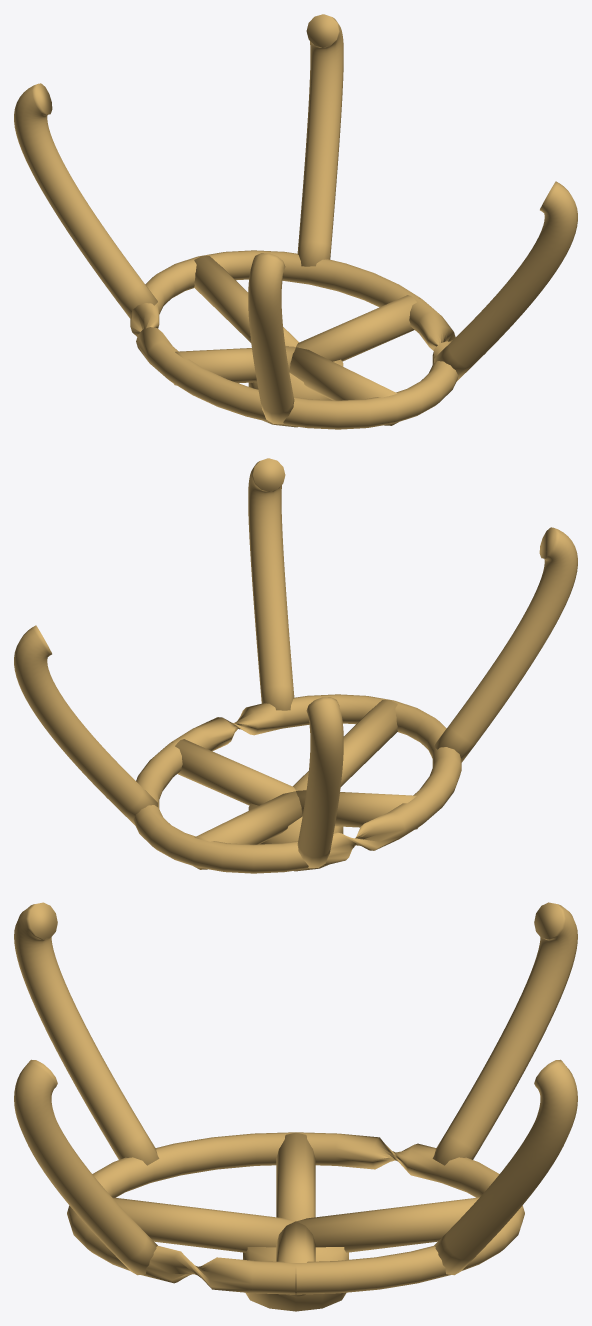
File: demo-oval-4-prong.glb
3 views of the same model, one above another, from view 1: azimuth 30°, elevation 25°; view 2: azimuth 150°, elevation 25°; view 3: azimuth 270°, elevation 25° (orthographic). The views are drawn at different scales.
Visible parts, largest first — view 1: Metal.071, Metal.073, Metal.072, Metal.075, Metal.074, Metal.067, Metal.070, Metal.069, Metal.068, Metal.066; view 2: Metal.071, Metal.074, Metal.075, Metal.072, Metal.073, Metal.067, Metal.069, Metal.070, Metal.068, Metal.066; view 3: Metal.071, Metal.073, Metal.074, Metal.072, Metal.075, Metal.069, Metal.070, Metal.068, Metal.066, Metal.067.
Part boxes in pixels (left/top/right/bottom): Metal.071: left=130, top=250, right=458, bottom=429; Metal.073: left=14, top=83, right=157, bottom=318; Metal.072: left=297, top=14, right=343, bottom=266; Metal.075: left=434, top=181, right=577, bottom=381; Metal.074: left=248, top=253, right=294, bottom=424; Metal.067: left=296, top=295, right=416, bottom=361; Metal.070: left=289, top=347, right=398, bottom=425; Metal.069: left=194, top=255, right=298, bottom=346; Metal.068: left=173, top=346, right=295, bottom=385; Metal.066: left=248, top=359, right=343, bottom=427; Metal.071: left=133, top=694, right=461, bottom=873; Metal.074: left=434, top=527, right=577, bottom=762; Metal.075: left=248, top=458, right=294, bottom=710; Metal.072: left=14, top=625, right=157, bottom=825; Metal.073: left=297, top=697, right=343, bottom=868; Metal.067: left=175, top=739, right=295, bottom=805; Metal.069: left=193, top=791, right=302, bottom=869; Metal.070: left=293, top=699, right=397, bottom=790; Metal.068: left=296, top=790, right=418, bottom=829; Metal.066: left=248, top=803, right=343, bottom=871; Metal.071: left=67, top=1132, right=524, bottom=1294; Metal.073: left=432, top=902, right=577, bottom=1165; Metal.074: left=14, top=902, right=159, bottom=1165; Metal.072: left=434, top=1059, right=577, bottom=1275; Metal.075: left=14, top=1059, right=157, bottom=1275; Metal.069: left=297, top=1197, right=479, bottom=1252; Metal.070: left=112, top=1197, right=294, bottom=1252; Metal.068: left=276, top=1132, right=315, bottom=1221; Metal.066: left=243, top=1247, right=348, bottom=1311; Metal.067: left=276, top=1221, right=315, bottom=1297.
Bounding box in the file's own units: 5.17 × 4.16 × 6.92.
